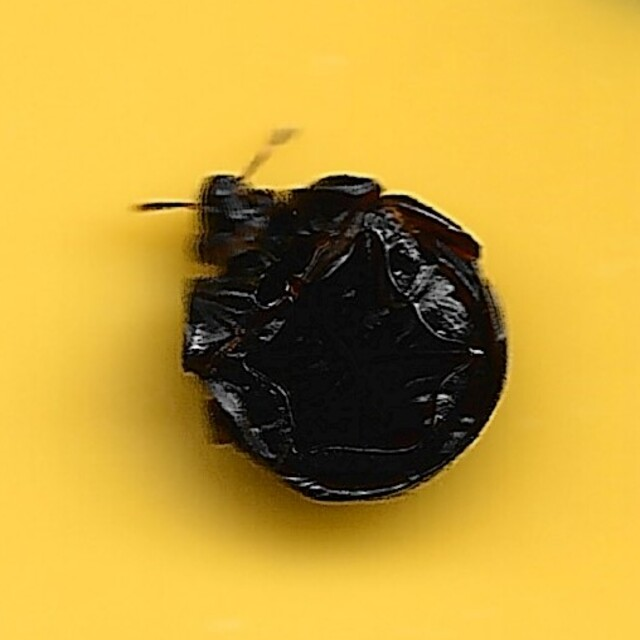Coleoptera: (126, 130, 514, 510)
